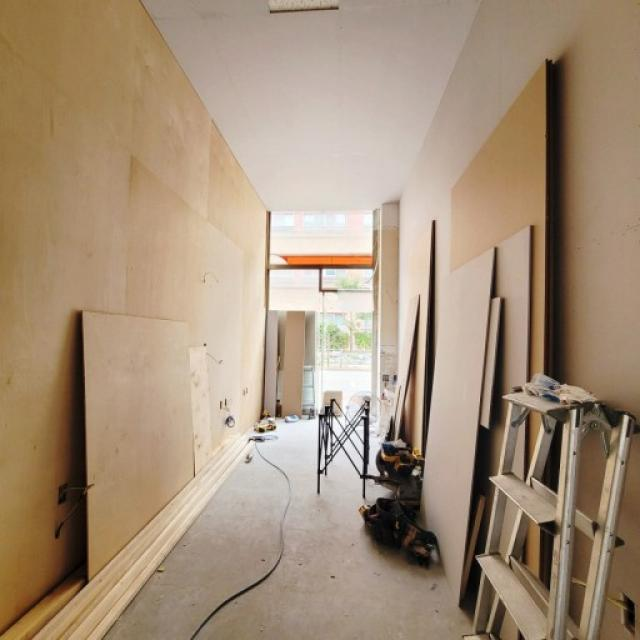board: (451, 59, 550, 638), (81, 310, 196, 580), (418, 246, 498, 608), (489, 224, 534, 640), (406, 216, 435, 459), (394, 294, 420, 441), (479, 296, 503, 429), (281, 311, 305, 418), (264, 310, 278, 418)
wood: (30, 433, 256, 640)
